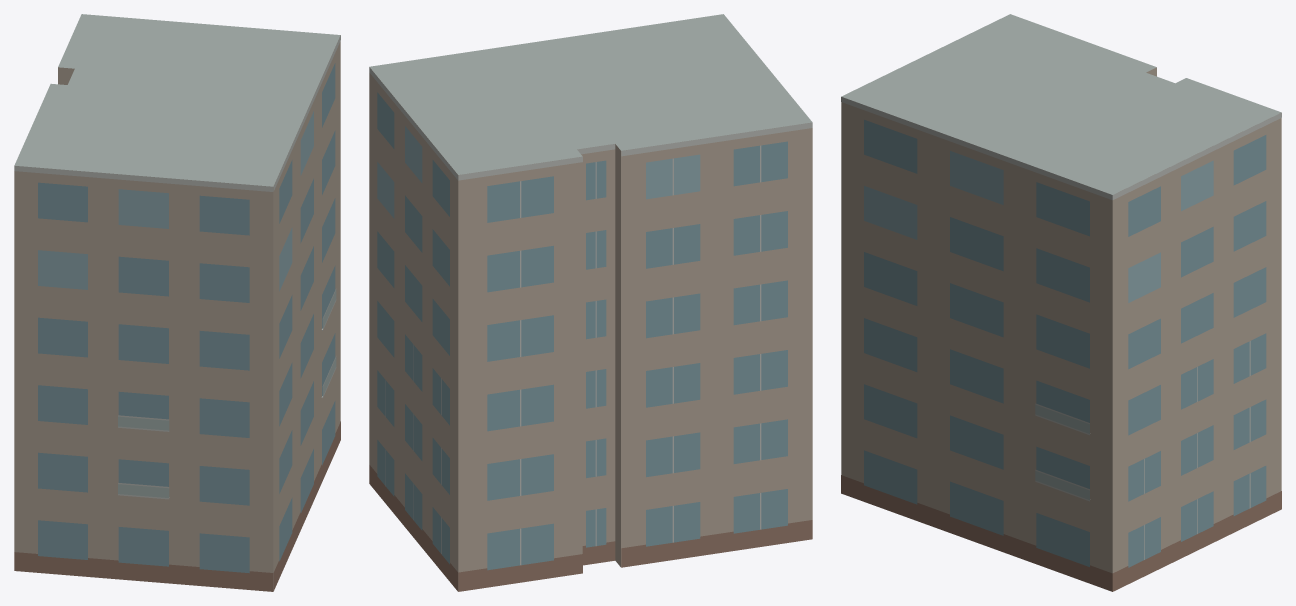
File: survey-upis-32662454.glb
3 renders of one model, left to right at view 1: azimuth 30°, elevation 25°; view 2: azimuth 150°, elevation 25°; view 3: azimuth 270°, elevation 25°, orthographic. The views are drawn at different scales.
Parts seen in each view (by area): view 1: survey-upis-32662454.tmp; view 2: survey-upis-32662454.tmp; view 3: survey-upis-32662454.tmp.
Boxes of the visible parts, <box> form: survey-upis-32662454.tmp: <box>14,14,340,591</box>; survey-upis-32662454.tmp: <box>369,14,812,591</box>; survey-upis-32662454.tmp: <box>841,14,1281,591</box>.
Size of the model in its own units: 17.91 by 18.3 by 18.42.
